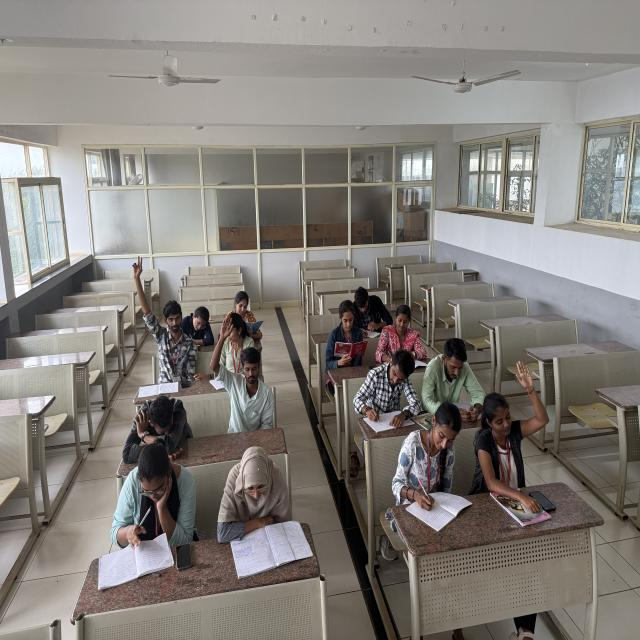Hand Rising: (473, 360, 550, 487), (208, 313, 277, 434), (128, 252, 192, 374)
Reading: (215, 444, 315, 568), (422, 334, 489, 416), (322, 300, 365, 367), (227, 289, 268, 336)
Sleeping: (119, 393, 199, 459)
Writing: (108, 440, 198, 554), (395, 400, 475, 519), (348, 343, 428, 426), (374, 303, 429, 367), (181, 303, 218, 350)
